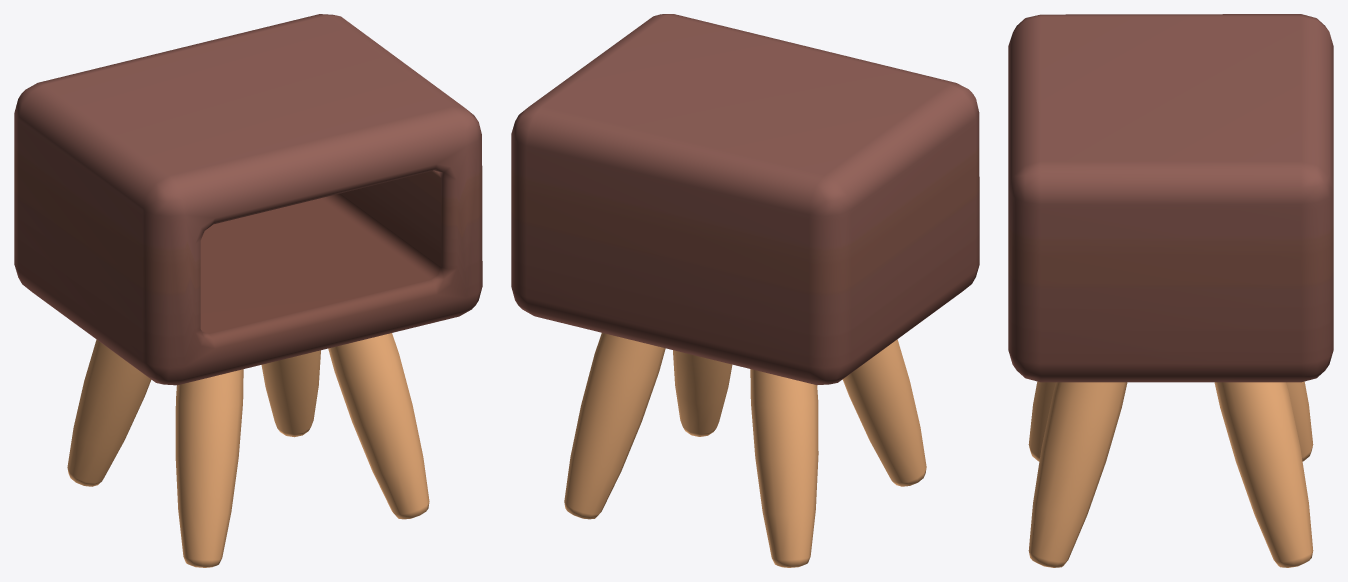
Rendered from Nightstand_02.glb.
The picture shows the model from 3 angles, left to right: view 1: azimuth 30°, elevation 25°; view 2: azimuth 150°, elevation 25°; view 3: azimuth 270°, elevation 25°; orthographic projection. The views are drawn at different scales.
Visible parts, largest first — view 1: Nightstand_02; view 2: Nightstand_02; view 3: Nightstand_02.
Part boxes in pixels (box(x1,y1,x2,y2)): Nightstand_02: box(14, 14, 482, 567); Nightstand_02: box(511, 14, 979, 567); Nightstand_02: box(1008, 14, 1333, 567).
Size of the model in its own units: 0.5 by 0.575 by 0.4.
Materials: 1 (1 with a texture image).
